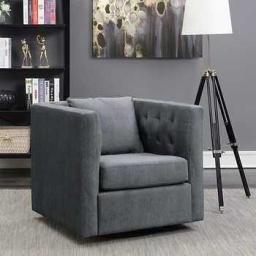Chair: (33, 98, 210, 236)
